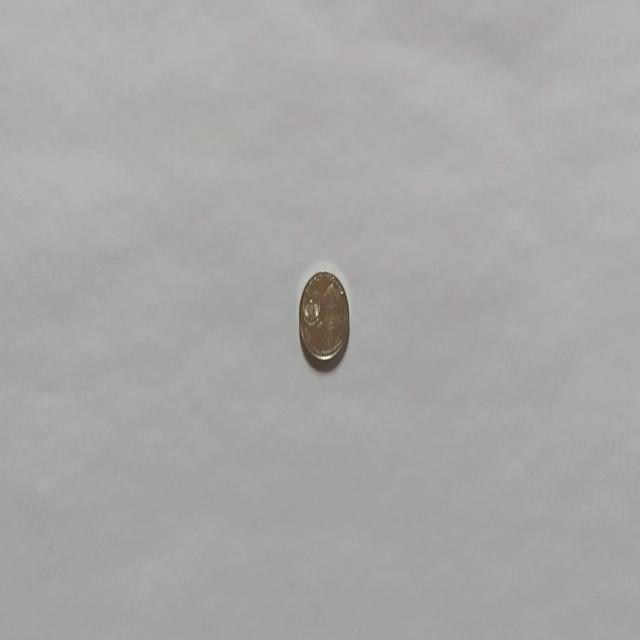dua ratus rupiah: (298, 268, 350, 368)
